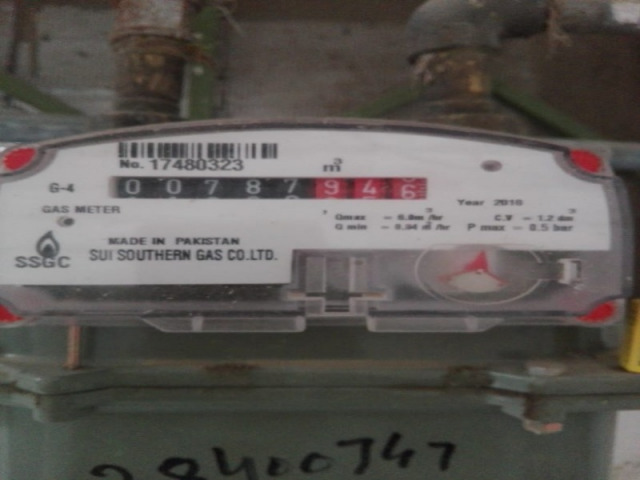ssgc: (101, 171, 432, 210)
